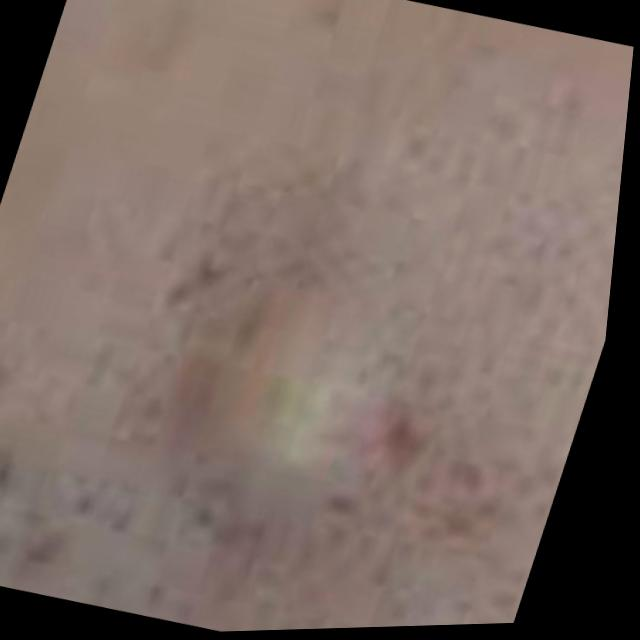nodule: (141, 226, 434, 550)
